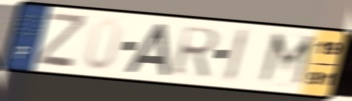0: (82, 17, 124, 73)
A: (123, 22, 171, 78)
I: (221, 27, 251, 85)
M: (255, 29, 319, 91)
R: (169, 25, 222, 79)
Z: (35, 11, 89, 71)
